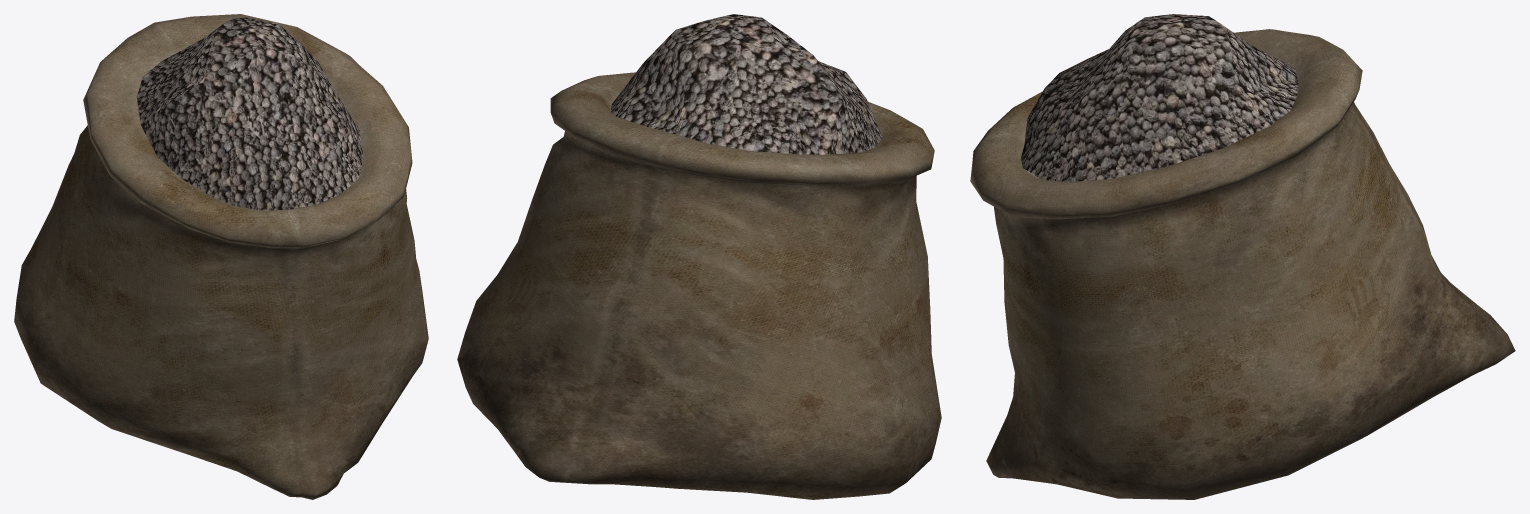
File: Sack_Bag_10.glb
3 views of the same model, side by side, from view 1: azimuth 30°, elevation 25°; view 2: azimuth 150°, elevation 25°; view 3: azimuth 270°, elevation 25° (orthographic). The views are drawn at different scales.
Parts seen in each view (by area): view 1: SM_Sack_Bag_10; view 2: SM_Sack_Bag_10; view 3: SM_Sack_Bag_10.
Boxes of the visible parts, x1,y1,x2,y2 form: SM_Sack_Bag_10: (14, 14, 428, 499); SM_Sack_Bag_10: (457, 14, 941, 499); SM_Sack_Bag_10: (970, 14, 1515, 499).
Bounding box in the file's own units: 0.7088 × 0.7505 × 0.8111.
Materials: 2 (2 with a texture image).
